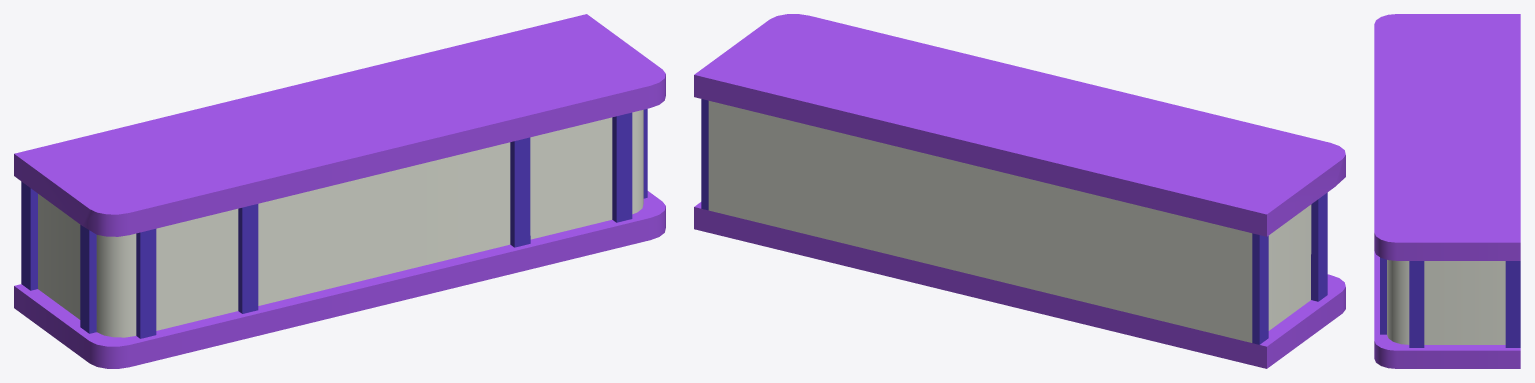
The model's file is TableB9_geo.fbx.
3 views of the same model, side by side, from view 1: azimuth 30°, elevation 25°; view 2: azimuth 150°, elevation 25°; view 3: azimuth 270°, elevation 25° (orthographic). The views are drawn at different scales.
Visible parts, largest first — view 1: TableB9_geo; view 2: TableB9_geo; view 3: TableB9_geo.
Part boxes in pixels (left/top/right/bottom): TableB9_geo: left=14, top=14, right=665, bottom=368; TableB9_geo: left=694, top=14, right=1345, bottom=368; TableB9_geo: left=1374, top=14, right=1520, bottom=368.
Size of the model in its own units: 2.64 by 0.7143 by 0.6803.
